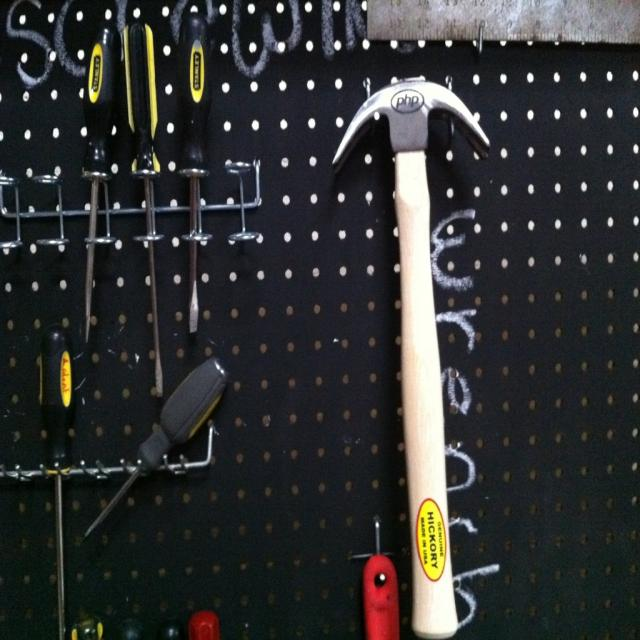hammer: (333, 69, 491, 628)
